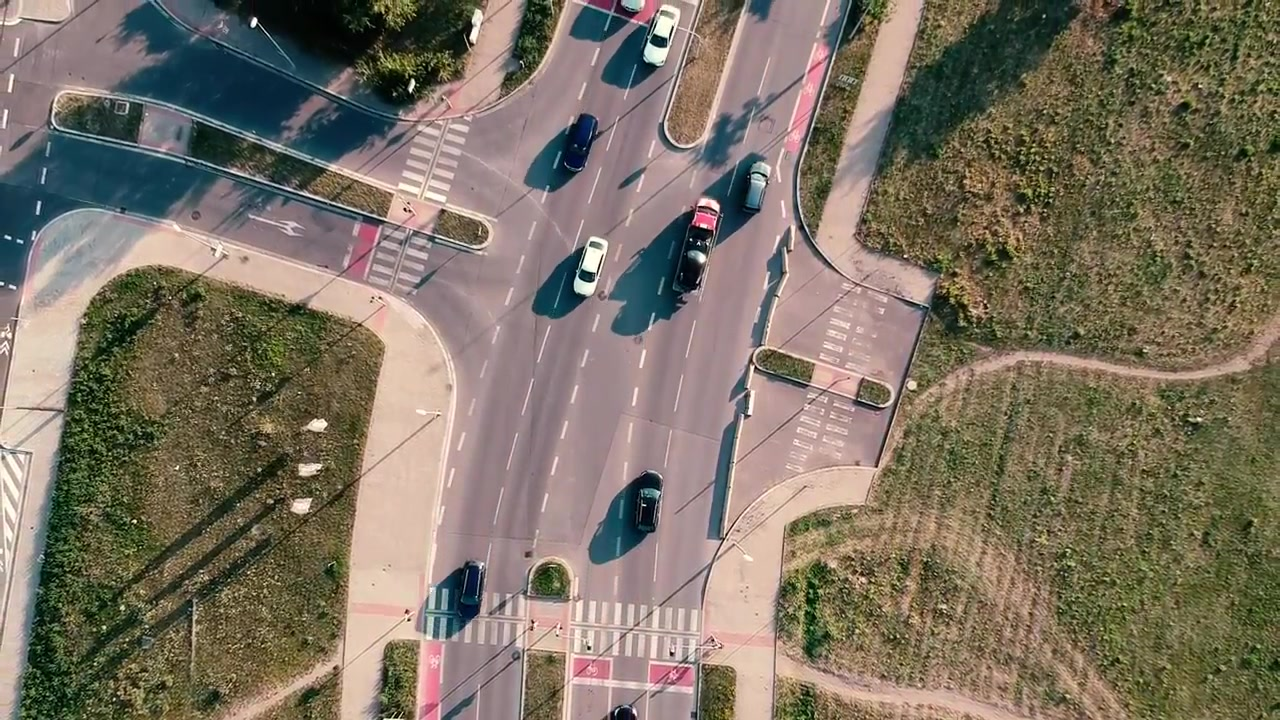car: (670, 194, 724, 299), (568, 234, 613, 300), (643, 7, 683, 72), (559, 113, 600, 175), (629, 468, 666, 534), (453, 559, 490, 622), (738, 160, 772, 213), (608, 701, 640, 720), (620, 1, 643, 16)
